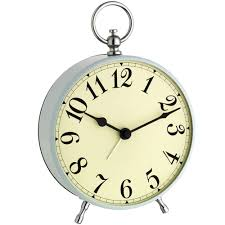alarm_clock: (35, 10, 199, 223), (35, 1, 192, 223), (35, 10, 192, 223)
